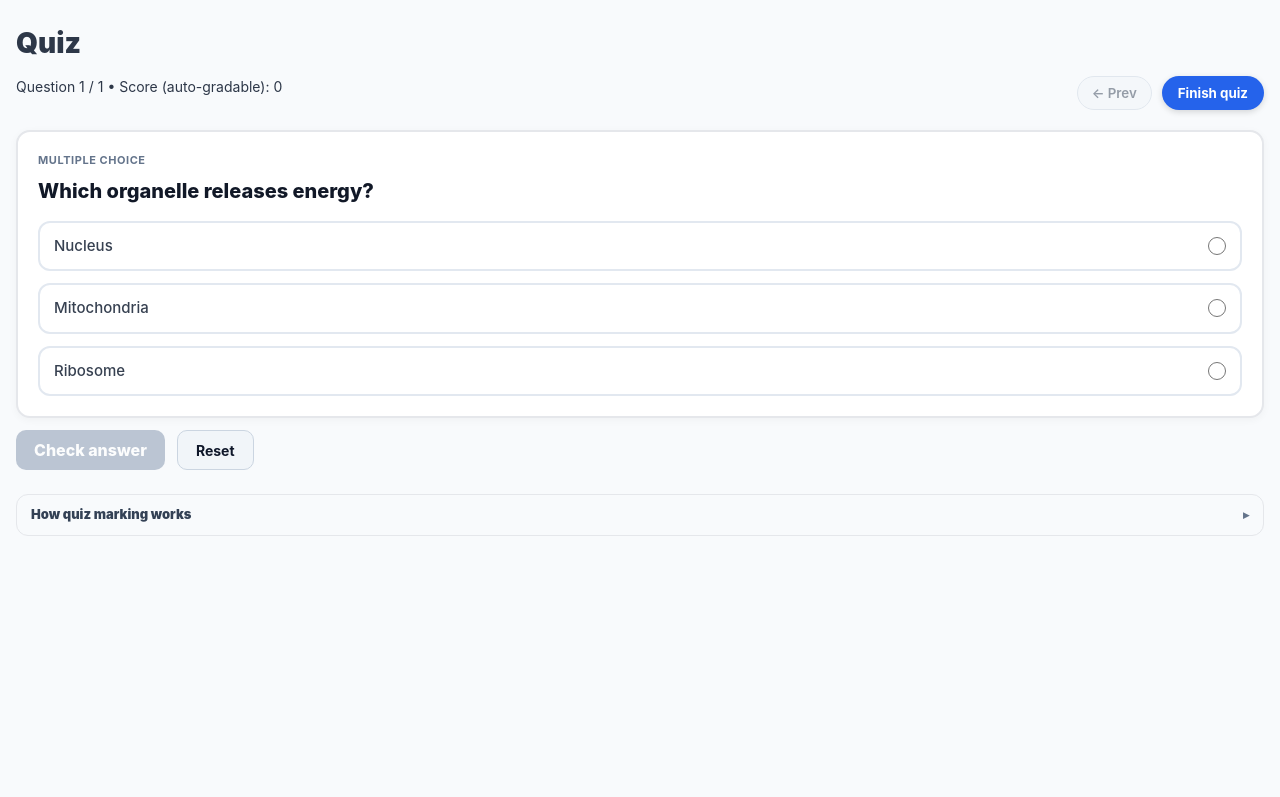
QuizView MCQ feedback › shows red selected option, green correct option, and structured incorrect feedback
The width and height of the screenshot is (1280, 797).
Step 1. Click the radio button named "Nucleus" → [1217, 246], box [1208,237,1226,255]
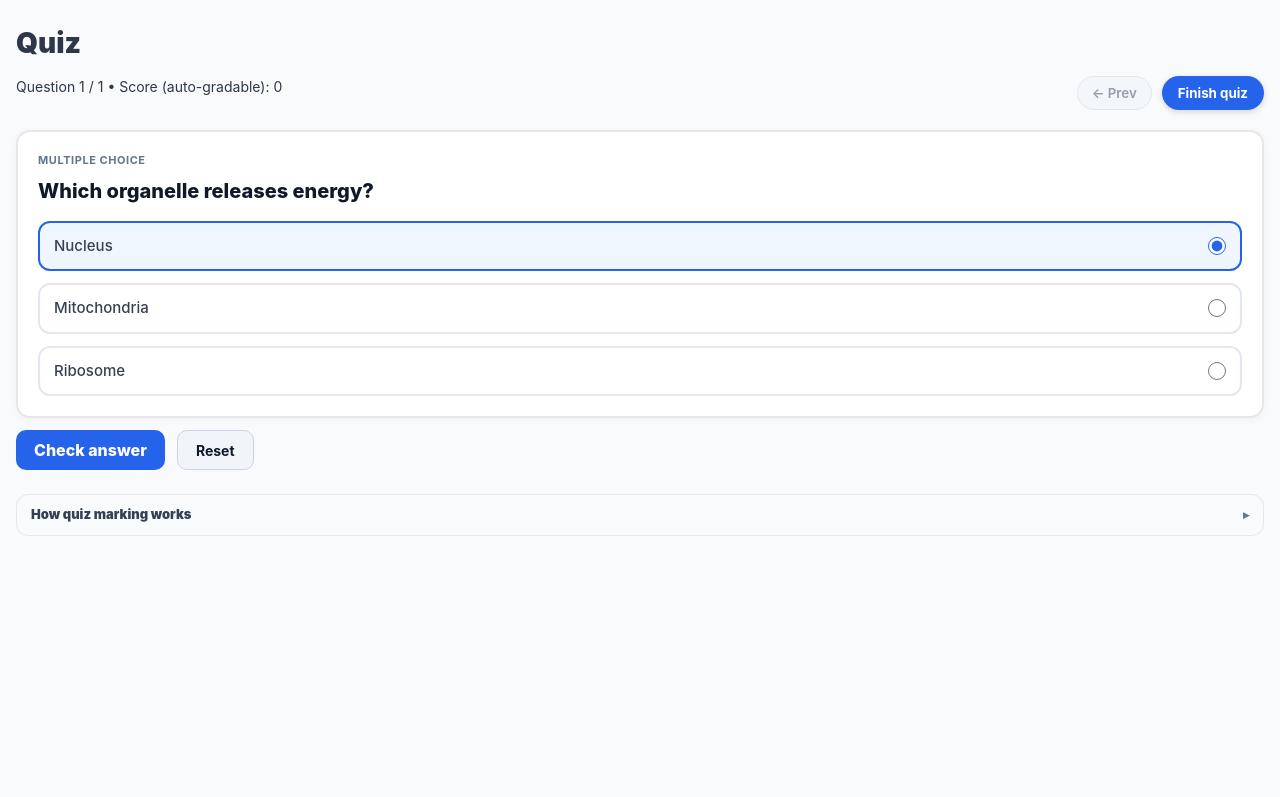
Step 2. Click the button "Check answer" → [90, 450], box [16,430,165,470]
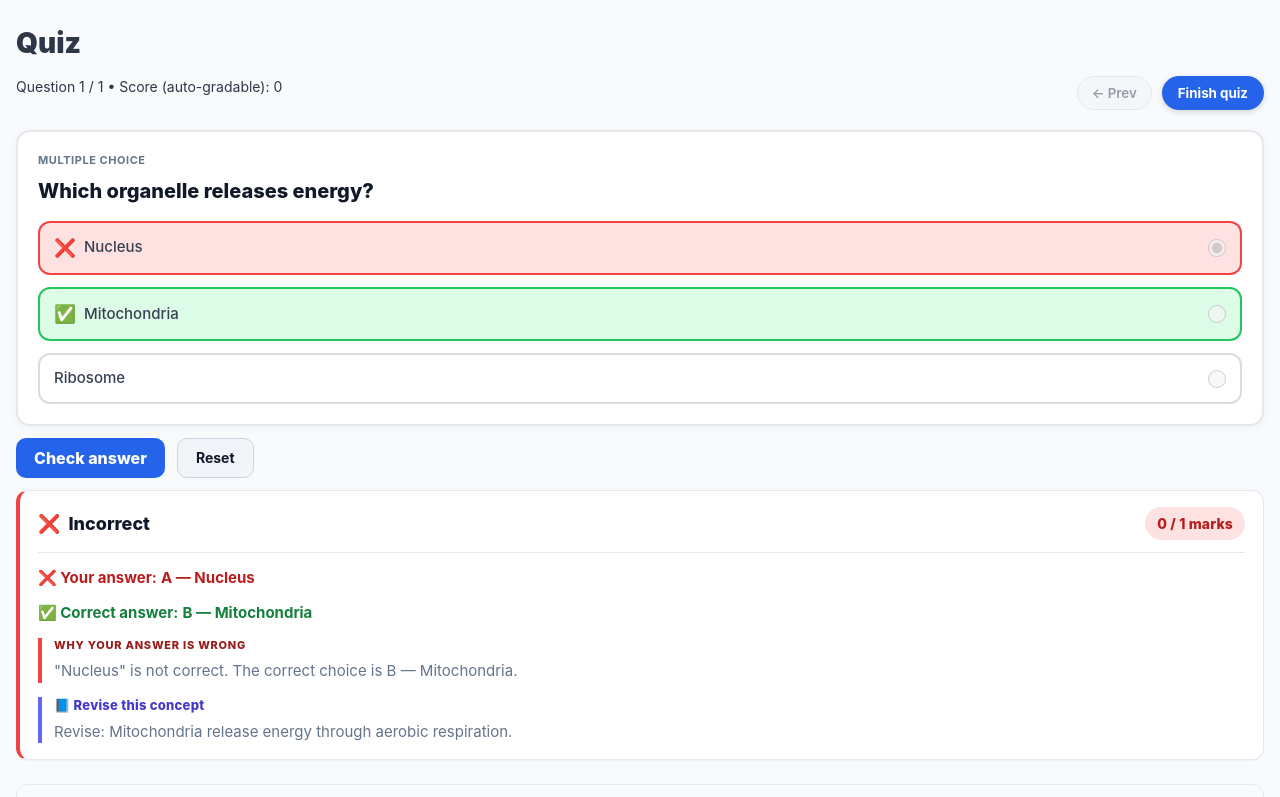
Check: the element with test id "answer-feedback-hero" shows "Incorrect", box [68,513,150,534]
Check: the text with test id "answer-feedback-score-badge" reads "0 / 1 marks", box [1145,507,1245,540]
Check: the element with test id "answer-feedback-your-answer" shows "❌ Your answer:", box [38,568,157,588]
